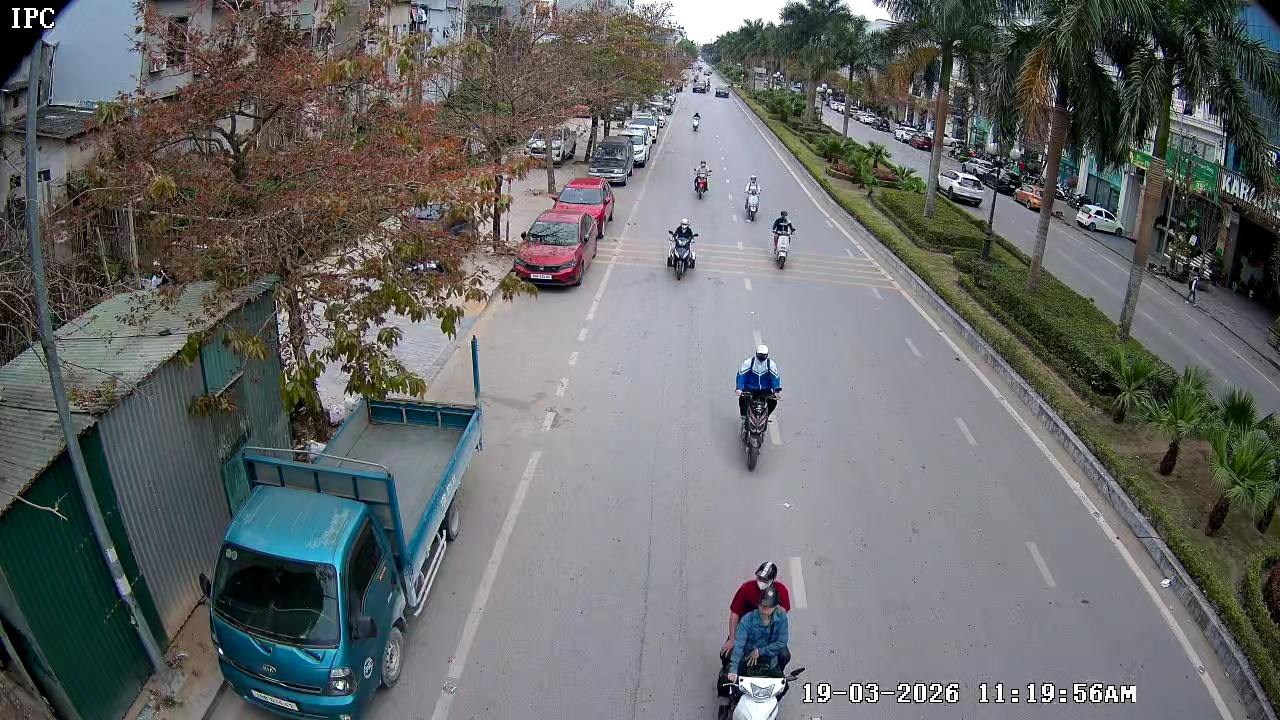bike: (730, 342, 785, 472)
car: (513, 210, 590, 291), (552, 176, 616, 239), (587, 128, 640, 187)
motorbike: (702, 547, 819, 718), (664, 216, 700, 282), (769, 208, 801, 271), (738, 171, 772, 222), (693, 157, 719, 204), (690, 108, 706, 133)
